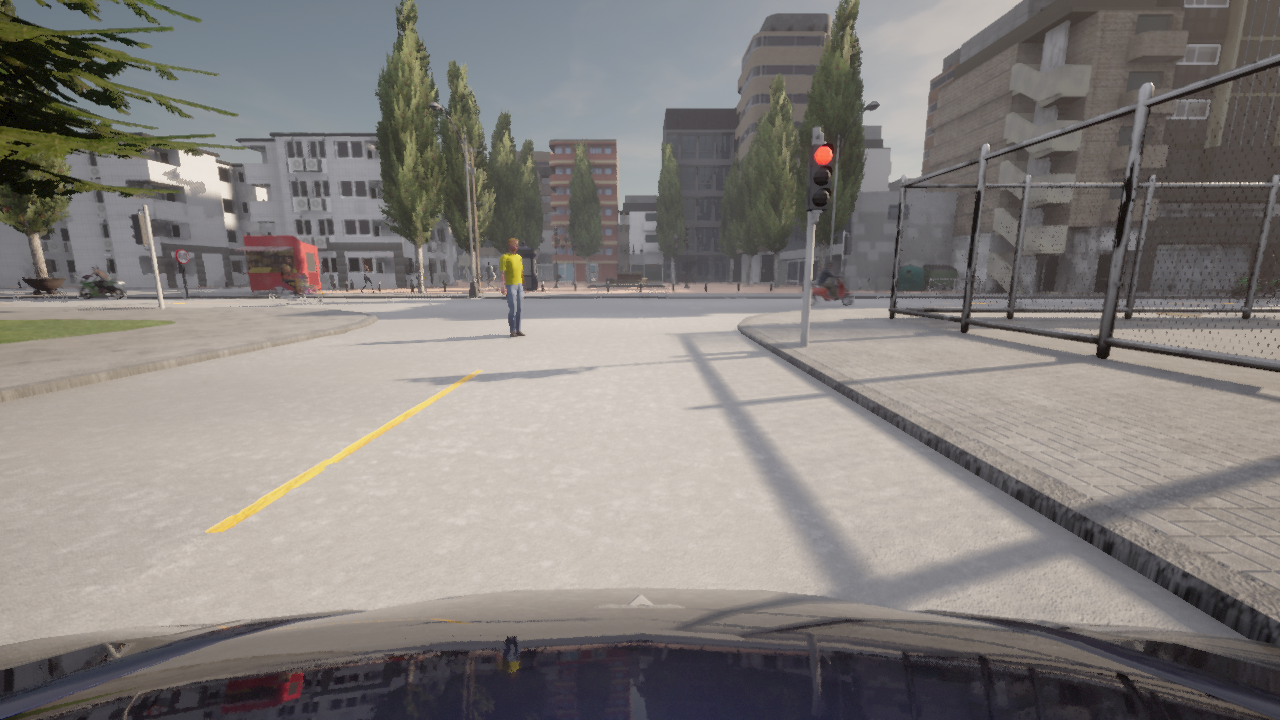cyclist: (0, 588, 1279, 719), (270, 275, 321, 306), (810, 272, 852, 306), (75, 274, 124, 300), (1230, 274, 1279, 300)
pedestrian: (500, 238, 526, 337), (360, 261, 376, 293), (486, 261, 497, 291)
